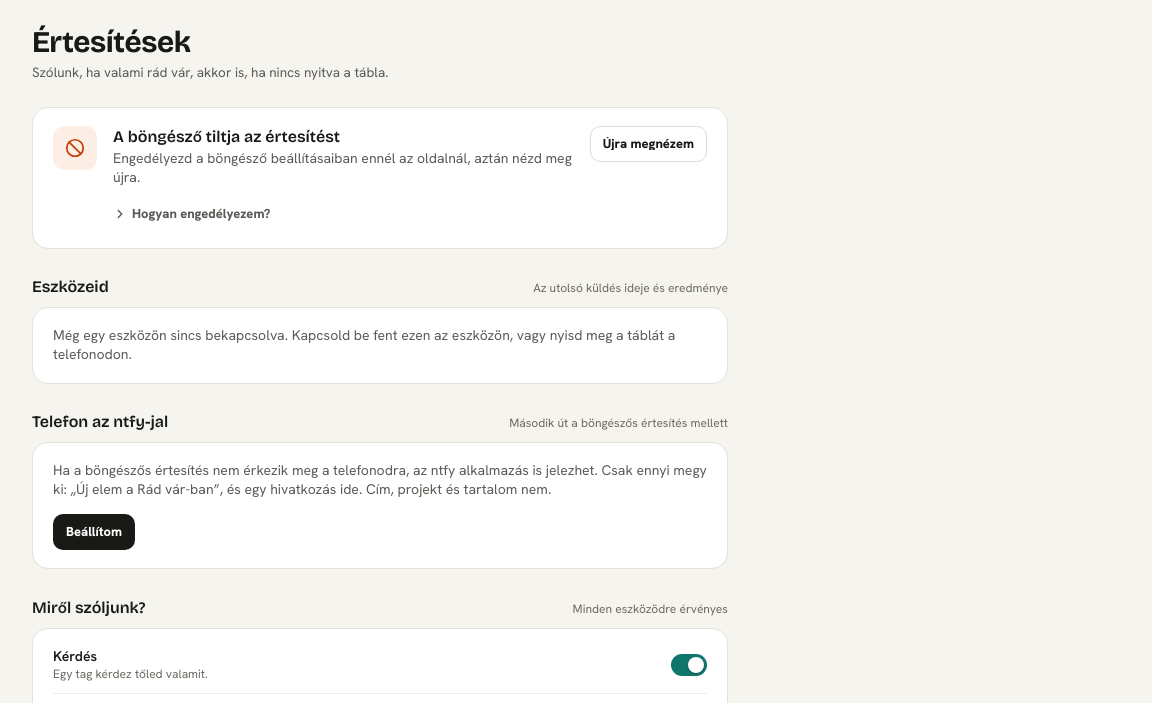
Test: this device › looks at the permission again and subscribes once the browser allows it
The width and height of the screenshot is (1152, 703).
Click the button "Újra megnézem": point(648, 144) [590,126,707,162]
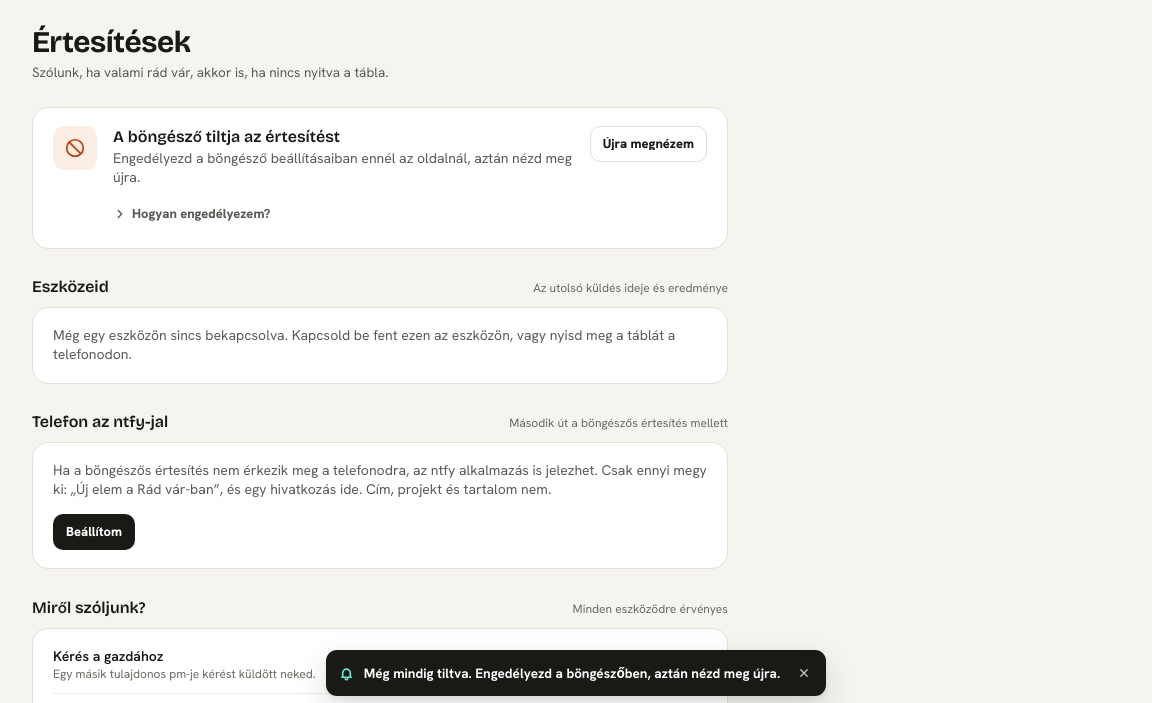
Expected: the text "Még mindig tiltva. Engedélyezd a böngészőben, aztán nézd meg újra." is shown, [364,664,780,682]
Click the button "Újra megnézem": point(648, 144) [590,126,707,162]
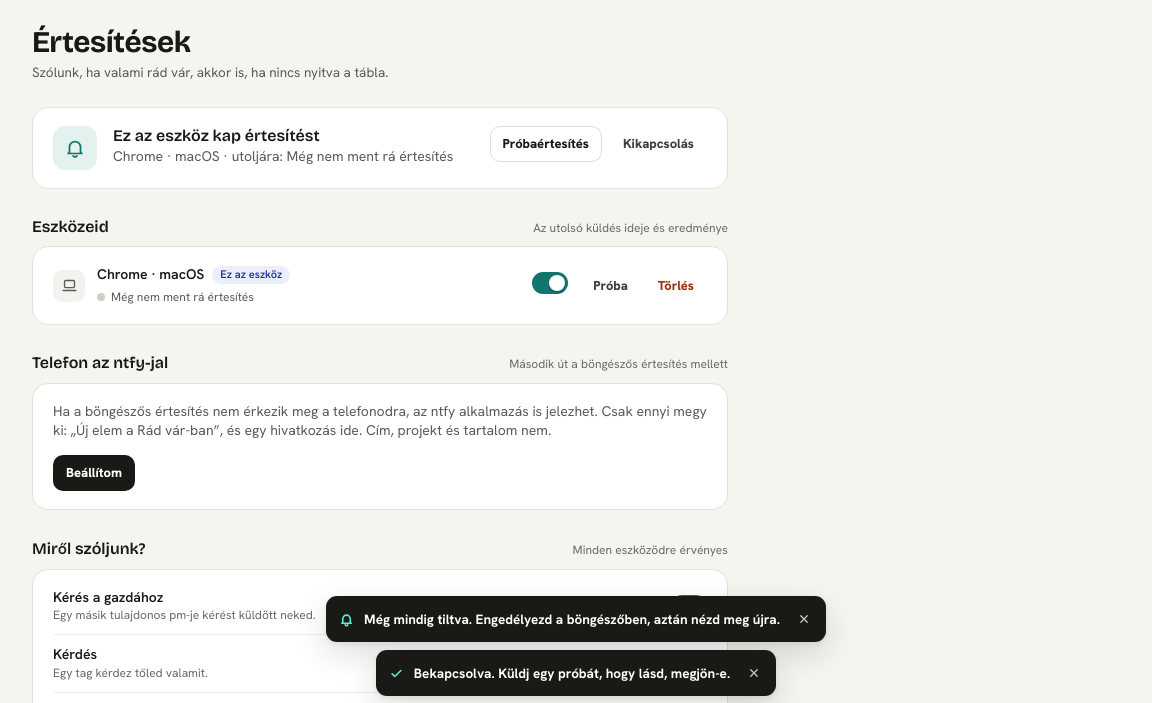
Expected: the text "Ez az eszköz kap értesítést" is shown, [113,126,320,145]
